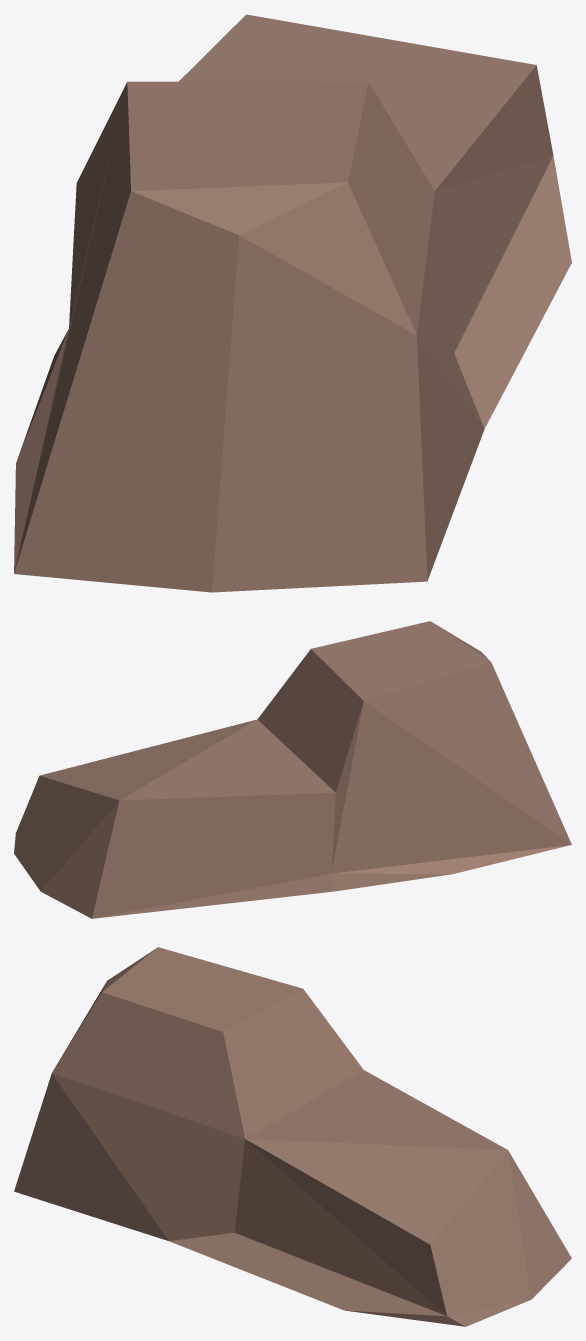
File: Rock.013.fbx
3 views of the same model, one above another, from view 1: azimuth 30°, elevation 25°; view 2: azimuth 150°, elevation 25°; view 3: azimuth 270°, elevation 25° (orthographic). The views are drawn at different scales.
Visible parts, largest first — view 1: Rock.013; view 2: Rock.013; view 3: Rock.013.
Part boxes in pixels (left/top/right/bottom): Rock.013: left=14, top=14, right=571, bottom=592; Rock.013: left=14, top=621, right=571, bottom=918; Rock.013: left=14, top=947, right=571, bottom=1326.
Size of the model in its own units: 2.16 by 0.8844 by 2.24.
